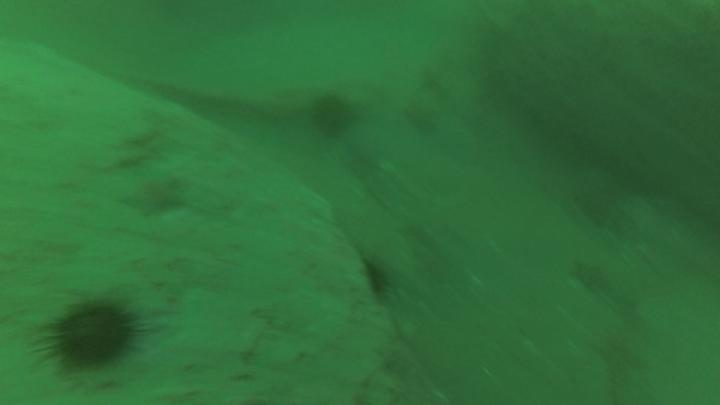echinus: (52, 297, 139, 375), (314, 86, 358, 141)
starfish: (117, 175, 189, 222), (570, 256, 613, 293)
